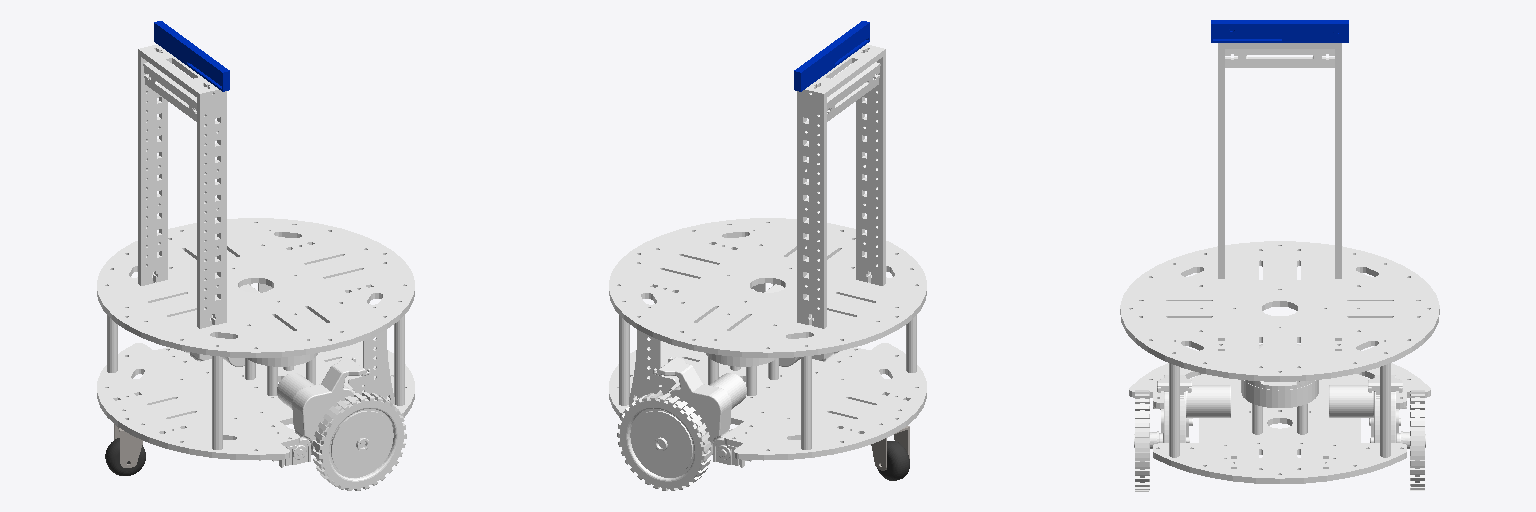
The robot description file, URDF, robot "sfbot_urdf":
<robot
  name="sfbot_urdf">
  <link
    name="base_link">
    <inertial>
      <origin
        xyz="-0.031268 2.0018E-06 0.067248"
        rpy="0 0 0" />
      <mass
        value="1.1516" />
      <inertia
        ixx="0.01416"
        ixy="2.8466E-08"
        ixz="0.0017756"
        iyy="0.01343"
        iyz="1.8491E-07"
        izz="0.012176" />
    </inertial>
    <visual>
      <origin
        xyz="0 0 0"
        rpy="0 0 0" />
      <geometry>
        <mesh
          filename="package://sfbot_urdf/meshes/base_link.STL" />
      </geometry>
      <material
        name="">
        <color
          rgba="1 1 1 1" />
      </material>
    </visual>
    <collision>
      <origin
        xyz="0 0 0"
        rpy="0 0 0" />
      <geometry>
        <mesh
          filename="package://sfbot_urdf/meshes/base_link.STL" />
      </geometry>
    </collision>
  </link>
  <link
    name="left_wheel_link">
    <inertial>
      <origin
        xyz="-5.55111512312578E-17 -0.000612321545233219 2.08166817117217E-17"
        rpy="0 0 0" />
      <mass
        value="0.0773443557044833" />
      <inertia
        ixx="4.60946783980502E-05"
        ixy="1.17803550583178E-20"
        ixz="-3.3881317890172E-20"
        iyy="8.77422038732554E-05"
        iyz="-2.01081433951639E-18"
        izz="4.60946783980502E-05" />
    </inertial>
    <visual>
      <origin
        xyz="0 0 0"
        rpy="0 0 0" />
      <geometry>
        <mesh
          filename="package://sfbot_urdf/meshes/left_wheel_link.STL" />
      </geometry>
      <material
        name="">
        <color
          rgba="1 1 1 1" />
      </material>
    </visual>
    <collision>
      <origin
        xyz="0 0 0"
        rpy="0 0 0" />
      <geometry>
        <mesh
          filename="package://sfbot_urdf/meshes/left_wheel_link.STL" />
      </geometry>
    </collision>
  </link>
  <joint
    name="left_wheel"
    type="continuous">
    <origin
      xyz="0.0111428005587439 0.12925 -0.00723574770211178"
      rpy="4.81950779594111E-14 0.0264945284170306 1.27675647831892E-15" />
    <parent
      link="base_link" />
    <child
      link="left_wheel_link" />
    <axis
      xyz="0 1 0" />
  </joint>
  <link
    name="right_wheel_link">
    <inertial>
      <origin
        xyz="1.66533453693773E-16 0.0056123215452332 6.93889390390723E-18"
        rpy="0 0 0" />
      <mass
        value="0.0773443557044832" />
      <inertia
        ixx="4.60946783980502E-05"
        ixy="1.68576967741622E-20"
        ixz="1.77612221127386E-20"
        iyy="8.77422038732552E-05"
        iyz="-3.5321028100135E-22"
        izz="4.60946783980501E-05" />
    </inertial>
    <visual>
      <origin
        xyz="0 0 0"
        rpy="0 0 0" />
      <geometry>
        <mesh
          filename="package://sfbot_urdf/meshes/right_wheel_link.STL" />
      </geometry>
      <material
        name="">
        <color
          rgba="1 1 1 1" />
      </material>
    </visual>
    <collision>
      <origin
        xyz="0 0 0"
        rpy="0 0 0" />
      <geometry>
        <mesh
          filename="package://sfbot_urdf/meshes/right_wheel_link.STL" />
      </geometry>
    </collision>
  </link>
  <joint
    name="right_wheel"
    type="continuous">
    <origin
      xyz="0.0111428005587439 -0.13425 -0.00723574770211191"
      rpy="0 0.00319851378007502 0" />
    <parent
      link="base_link" />
    <child
      link="right_wheel_link" />
    <axis
      xyz="0 1 0" />
  </joint>
  <link
    name="omni_link">
    <inertial>
      <origin
        xyz="4.16333634234434E-17 -0.0123279860877339 -0.0118088502268488"
        rpy="0 0 0" />
      <mass
        value="0.00453987148064387" />
      <inertia
        ixx="9.83947682477902E-07"
        ixy="1.21760986167806E-21"
        ixz="1.63450889040478E-21"
        iyy="1.31249550893875E-06"
        iyz="-1.53758889588396E-07"
        izz="1.07130123051794E-06" />
    </inertial>
    <visual>
      <origin
        xyz="0 0 0"
        rpy="0 0 0" />
      <geometry>
        <mesh
          filename="package://sfbot_urdf/meshes/omni_link.STL" />
      </geometry>
      <material
        name="">
        <color
          rgba="0.776470588235294 0.756862745098039 0.737254901960784 1" />
      </material>
    </visual>
    <collision>
      <origin
        xyz="0 0 0"
        rpy="0 0 0" />
      <geometry>
        <mesh
          filename="package://sfbot_urdf/meshes/omni_link.STL" />
      </geometry>
    </collision>
  </link>
  <joint
    name="omni"
    type="continuous">
    <origin
      xyz="-0.149 0 -0.002"
      rpy="8.67361737988402E-17 -3.08148791101958E-32 -1.90669324230065" />
    <parent
      link="base_link" />
    <child
      link="omni_link" />
    <axis
      xyz="0 0 1" />
  </joint>
  <link
    name="omni_wheel_link">
    <inertial>
      <origin
        xyz="0 -2.77555756156289E-17 0"
        rpy="0 0 0" />
      <mass
        value="0.0194601178400639" />
      <inertia
        ixx="2.14113976533056E-06"
        ixy="-9.52912065661088E-22"
        ixz="-1.58818677610181E-22"
        iyy="3.193957958419E-06"
        iyz="-1.27054942088145E-21"
        izz="2.14113976533056E-06" />
    </inertial>
    <visual>
      <origin
        xyz="0 0 0"
        rpy="0 0 0" />
      <geometry>
        <mesh
          filename="package://sfbot_urdf/meshes/omni_wheel_link.STL" />
      </geometry>
      <material
        name="">
        <color
          rgba="0.298039215686275 0.298039215686275 0.298039215686275 1" />
      </material>
    </visual>
    <collision>
      <origin
        xyz="0 0 0"
        rpy="0 0 0" />
      <geometry>
        <mesh
          filename="package://sfbot_urdf/meshes/omni_wheel_link.STL" />
      </geometry>
    </collision>
  </link>
  <joint
    name="omni_wheel"
    type="continuous">
    <origin
      xyz="0 -0.017 -0.03374"
      rpy="3.14159265358979 -1.07204020848646 -1.5707963267949" />
    <parent
      link="omni_link" />
    <child
      link="omni_wheel_link" />
    <axis
      xyz="0 -1 0" />
  </joint>
  <link
    name="lidar_link">
    <inertial>
      <origin
        xyz="-0.00116439147312714 4.41208760498801E-10 0.0189284573767456"
        rpy="0 0 0" />
      <mass
        value="0.148482326477962" />
      <inertia
        ixx="6.853078563179E-05"
        ixy="3.32222810407398E-13"
        ixz="1.39067547118918E-06"
        iyy="6.54042842831123E-05"
        iyz="-3.02067953595139E-12"
        izz="9.41338978203851E-05" />
    </inertial>
    <visual>
      <origin
        xyz="0 0 0"
        rpy="0 0 0" />
      <geometry>
        <mesh
          filename="package://sfbot_urdf/meshes/lidar_link.STL" />
      </geometry>
      <material
        name="">
        <color
          rgba="1 1 1 1" />
      </material>
    </visual>
    <collision>
      <origin
        xyz="0 0 0"
        rpy="0 0 0" />
      <geometry>
        <mesh
          filename="package://sfbot_urdf/meshes/lidar_link.STL" />
      </geometry>
    </collision>
  </link>
  <joint
    name="lidar"
    type="fixed">
    <origin
      xyz="0 0 0.038"
      rpy="0 0 0" />
    <parent
      link="base_link" />
    <child
      link="lidar_link" />
    <axis
      xyz="0 0 0" />
  </joint>
  <link
    name="camera_link">
    <inertial>
      <origin
        xyz="0.00399310539548198 0.00255704494584771 0.000513929215761377"
        rpy="0 0 0" />
      <mass
        value="0.0192165264496742" />
      <inertia
        ixx="2.76975918992476E-05"
        ixy="-4.88427261690366E-09"
        ixz="4.04259233955489E-10"
        iyy="7.233544866334E-07"
        iyz="3.27508784952676E-07"
        izz="2.71788392198678E-05" />
    </inertial>
    <visual>
      <origin
        xyz="0 0 0"
        rpy="0 0 0" />
      <geometry>
        <mesh
          filename="package://sfbot_urdf/meshes/camera_link.STL" />
      </geometry>
      <material
        name="">
        <color
          rgba="0.00784313725490196 0.23921568627451 0.823529411764706 1" />
      </material>
    </visual>
    <collision>
      <origin
        xyz="0 0 0"
        rpy="0 0 0" />
      <geometry>
        <mesh
          filename="package://sfbot_urdf/meshes/camera_link.STL" />
      </geometry>
    </collision>
  </link>
  <joint
    name="camera"
    type="fixed">
    <origin
      xyz="-0.100151001122379 0 0.366"
      rpy="0 0 0" />
    <parent
      link="base_link" />
    <child
      link="camera_link" />
    <axis
      xyz="0 0 0" />
  </joint>

	<gazebo>
	<plugin name="differential_drive_controller" filename="libgazebo_ros_diff_drive.so">

	<alwaysOn>true</alwaysOn>
	
	<rosDebugLevel>Debug</rosDebugLevel>

        <legacyMode>true</legacyMode>

	<updateRate>30.0</updateRate>

	<leftJoint>right_wheel</leftJoint>

	<rightJoint>left_wheel</rightJoint>

	<wheelSeparation>0.2585</wheelSeparation>

	<wheelAcceleration>0</wheelAcceleration>
        
        <wheelTorque>5</wheelTorque> 
	
        <odometrySource>1</odometrySource>

	<publishTf>true</publishTf>

	<wheelDiameter>0.095</wheelDiameter>

        <publishWheelTF>true</publishWheelTF>
        
	<publishWheelJointState>true</publishWheelJointState>


	<torque>20</torque>

	<commandTopic>cmd_vel</commandTopic>

	<odometryTopic>odom</odometryTopic>

	<odometryFrame>odom</odometryFrame>

	<robotBaseFrame>base_link</robotBaseFrame>

	</plugin>

        </gazebo>


        <gazebo reference="lidar_link">

        <sensor type="ray" name="laser_sensor">

          <pose>0 0 0 0 0 0</pose>

          <visualize>False</visualize>

          <update_rate>40</update_rate>

          <ray>

            <scan>

              <horizontal>

                <samples>720</samples>

                <resolution>1</resolution>

                <min_angle>-3.14</min_angle>

                <max_angle>3.14</max_angle>

              </horizontal>

            </scan>

            <range>

              <min>0.10</min>

              <max>30.0</max>

              <resolution>0.01</resolution>

            </range>

            <noise>

              <type>gaussian</type>

              <!-- Noise parameters based on published spec for Hokuyo laser

                   achieving "+-30mm" accuracy at range < 10m.  A mean of 0.0m and

                   stddev of 0.01m will put 99.7% of samples within 0.03m of the true

                   reading. -->

              <mean>0.0</mean>

              <stddev>0.01</stddev>

            </noise>

          </ray>

          <plugin name="gazebo_ros_head_hokuyo_controller" filename="libgazebo_ros_laser.so">

            <topicName>/scan</topicName>

            <frameName>lidar_link</frameName>

          </plugin>

        </sensor>

      </gazebo>


     <gazebo reference="camera_link">  
      <sensor type="depth" name="camera">
        <always_on>true</always_on>
        <update_rate>20.0</update_rate>
        <camera>
          <horizontal_fov>1.3962634</horizontal_fov>
          <image>
            <format>B8G8R8</format>
            <width>640</width>
            <height>480</height>
          </image>
          <clip>
            <near>0.05</near>
            <far>8.0</far>
          </clip>
        </camera>
        <plugin name="kinect_camera_controller" filename="libgazebo_ros_openni_kinect.so">
          <cameraName>camera</cameraName>
          <alwaysOn>true</alwaysOn>
          <updateRate>10</updateRate>
          <imageTopicName>rgb/image_raw</imageTopicName>
          <depthImageTopicName>depth/image_raw</depthImageTopicName>
          <pointCloudTopicName>depth/points</pointCloudTopicName>
          <cameraInfoTopicName>rgb/camera_info</cameraInfoTopicName>
          <depthImageCameraInfoTopicName>depth/camera_info</depthImageCameraInfoTopicName>
          <frameName>camera_link</frameName>
          <baseline>0.1</baseline>
          <distortion_k1>0.0</distortion_k1>
          <distortion_k2>0.0</distortion_k2>
          <distortion_k3>0.0</distortion_k3>
          <distortion_t1>0.0</distortion_t1>
          <distortion_t2>0.0</distortion_t2>
          <pointCloudCutoff>0.4</pointCloudCutoff>
        </plugin>
      </sensor>
    </gazebo>
</robot>

--- Facts derived from the render (not from the file) ---
The picture shows the robot from 3 angles, left to right: view 1: azimuth 30°, elevation 25°; view 2: azimuth 150°, elevation 25°; view 3: azimuth 270°, elevation 25°; orthographic projection.
Model sfbot_urdf with 7 links and 6 joints (4 continuous, 2 fixed), rooted at base_link, posed every joint at zero.
Visible links, largest first — view 1: base_link, right_wheel_link, camera_link, omni_link, omni_wheel_link; view 2: base_link, left_wheel_link, camera_link, omni_wheel_link, omni_link; view 3: base_link, camera_link, lidar_link, right_wheel_link, left_wheel_link.
Link boxes in pixels (<box>): base_link: <box>97,44,414,467</box>; right_wheel_link: <box>312,392,406,490</box>; camera_link: <box>154,21,229,91</box>; omni_link: <box>114,424,142,467</box>; omni_wheel_link: <box>105,438,145,475</box>; base_link: <box>609,44,926,467</box>; left_wheel_link: <box>617,392,711,490</box>; camera_link: <box>794,21,869,91</box>; omni_wheel_link: <box>877,441,909,480</box>; omni_link: <box>871,426,909,470</box>; base_link: <box>1120,43,1439,483</box>; camera_link: <box>1211,20,1348,42</box>; lidar_link: <box>1241,344,1318,407</box>; right_wheel_link: <box>1134,390,1189,491</box>; left_wheel_link: <box>1370,390,1425,490</box>.
Size in the robot's own frame: 0.3074 by 0.2998 by 0.4307 metres.
Meshes: 7 distinct files referenced, 7 mesh visuals loaded (7 binary STL).
